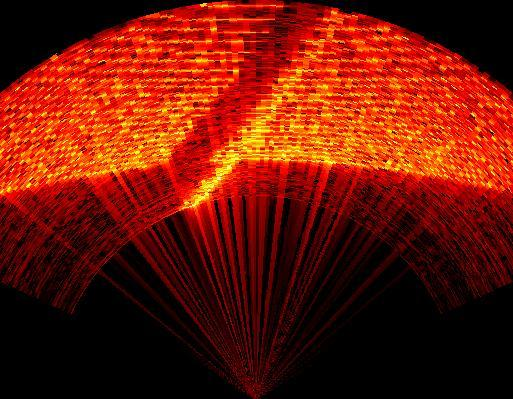pipe: (170, 4, 335, 204)
